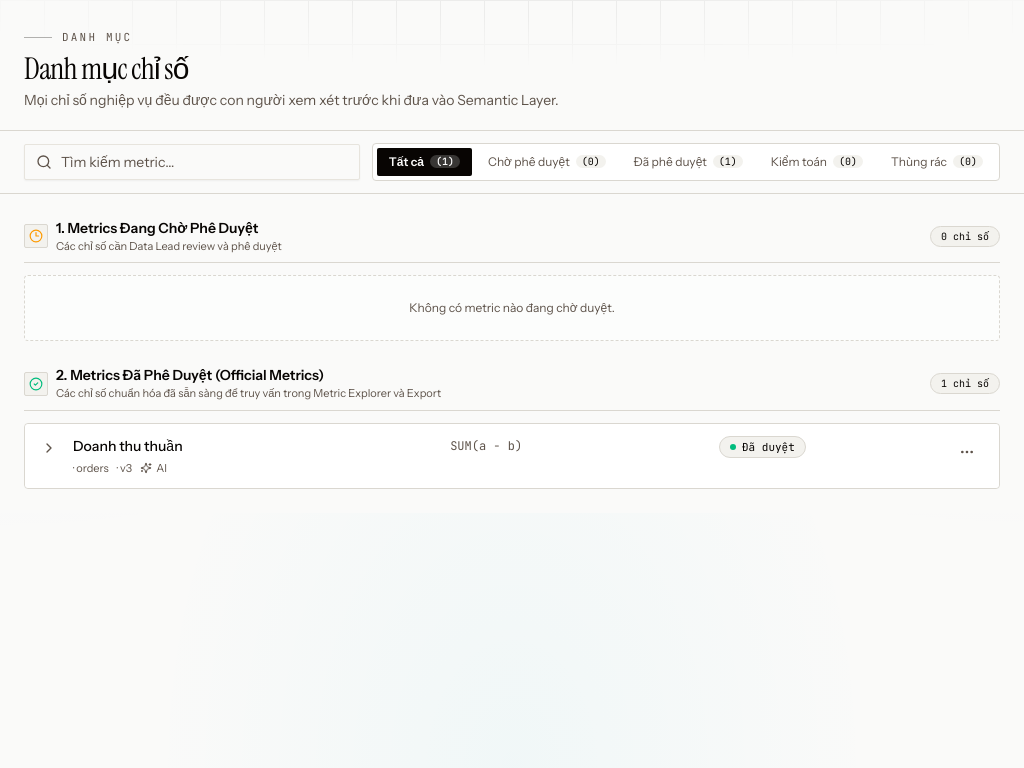
Test: MetricsCatalogView history modal › defaults selectors to the latest two versions and renders the colored diff
This screenshot has width=1024, height=768.
Click the heading named "Thao tác với": click(967, 452) [959,444,975,460]
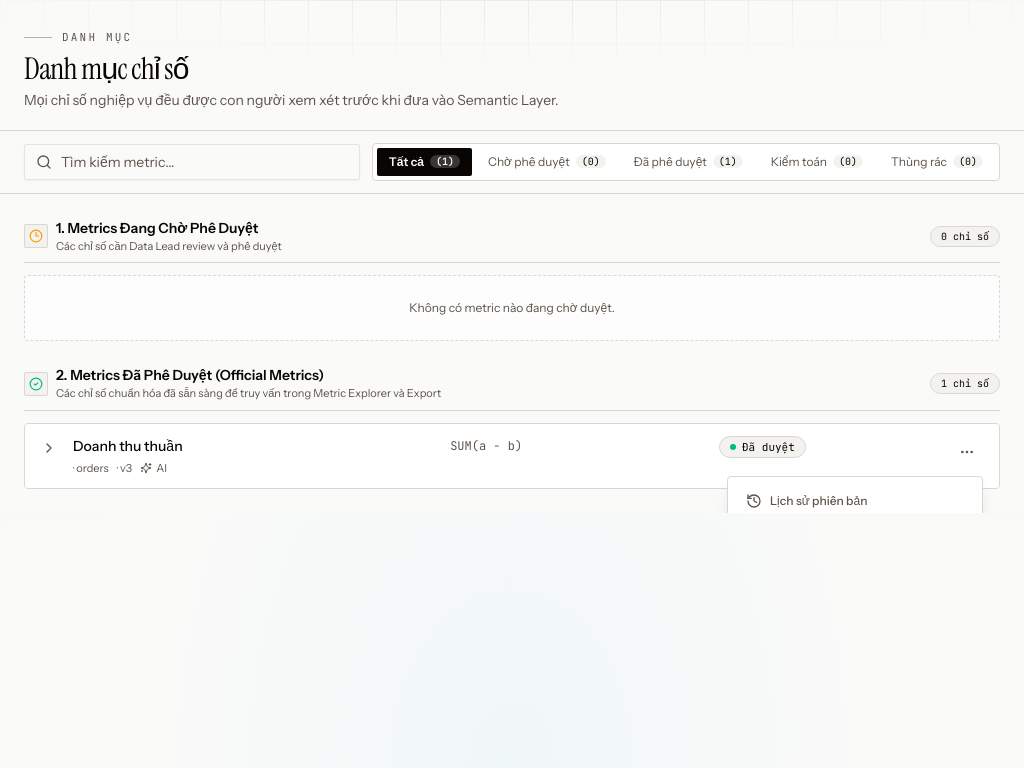
Click the button titled "Xem lịch sử phiên bản": click(855, 501) [736,485,974,517]
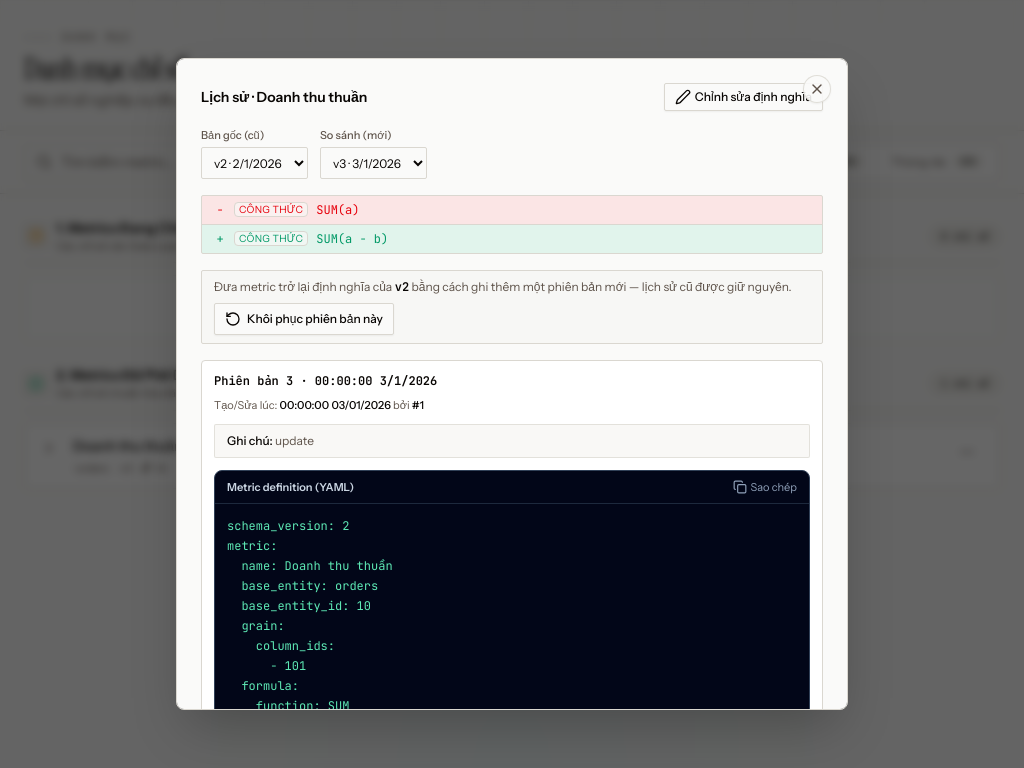
Expected: the dialog is shown, [176,58,848,710]
Expected: the dropdown labelled "Bản gốc (cũ)" shows "v2 · 2/1/2026", [201,147,308,179]
Expected: the dropdown labelled "So sánh (mới)" shows "v3 · 3/1/2026", [320,147,427,179]
